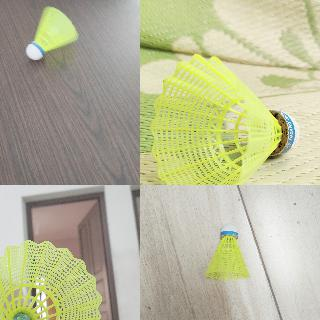shuttlecock: (151, 52, 301, 184), (0, 239, 103, 319), (26, 5, 76, 60), (205, 223, 249, 281)
